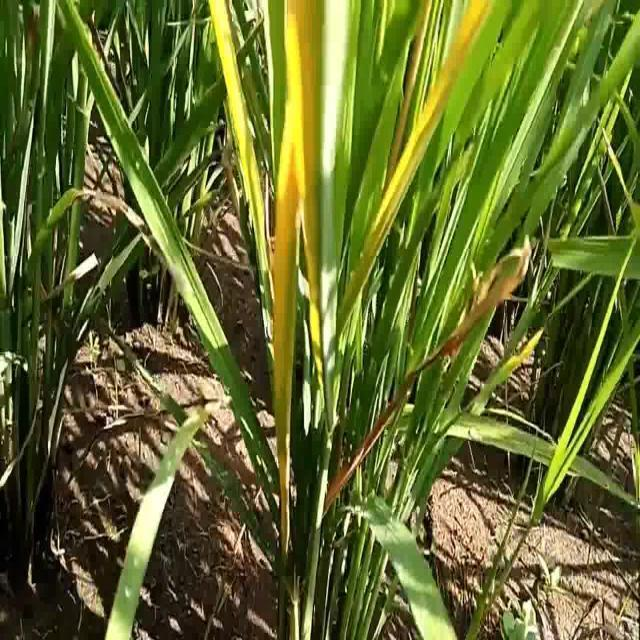Rice Tungro: (346, 2, 494, 301), (273, 1, 319, 379), (207, 3, 271, 261)
